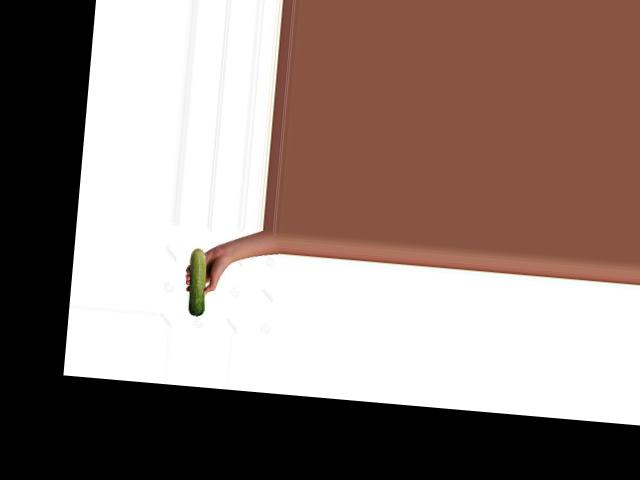cucumber: (186, 247, 210, 317)
